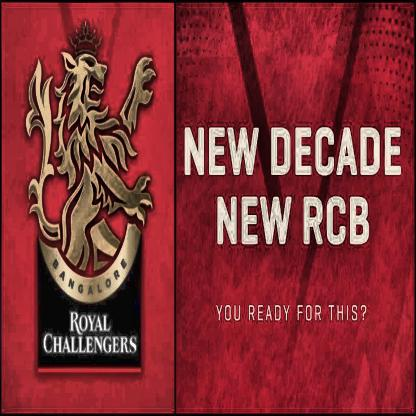Royal Challengers Bangalore: (26, 21, 158, 369)
